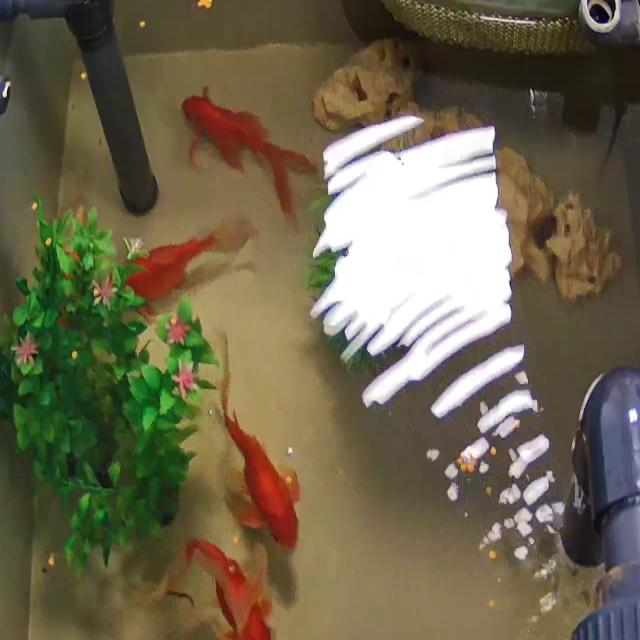fish: (185, 90, 320, 219), (213, 352, 301, 541), (135, 534, 288, 640), (118, 219, 253, 310)
